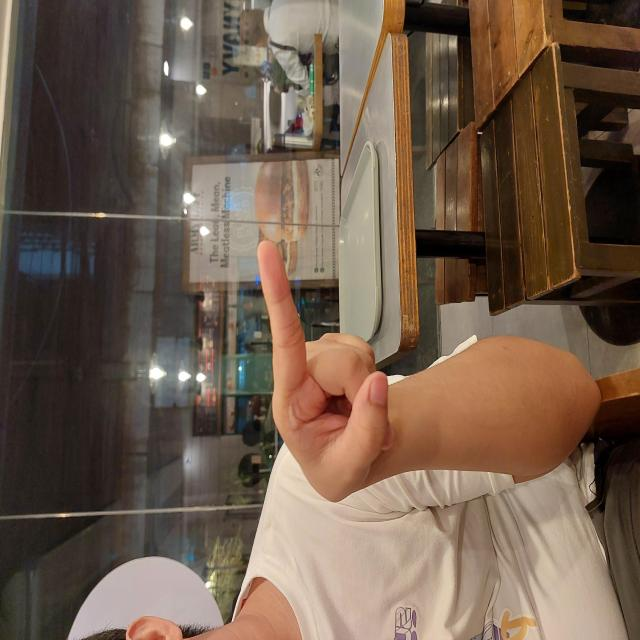Z: (137, 256, 403, 396)
